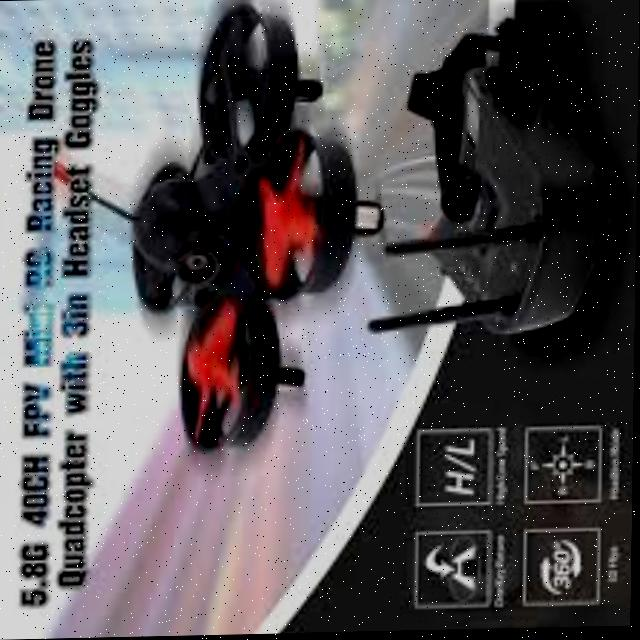drone: (114, 0, 380, 493)
